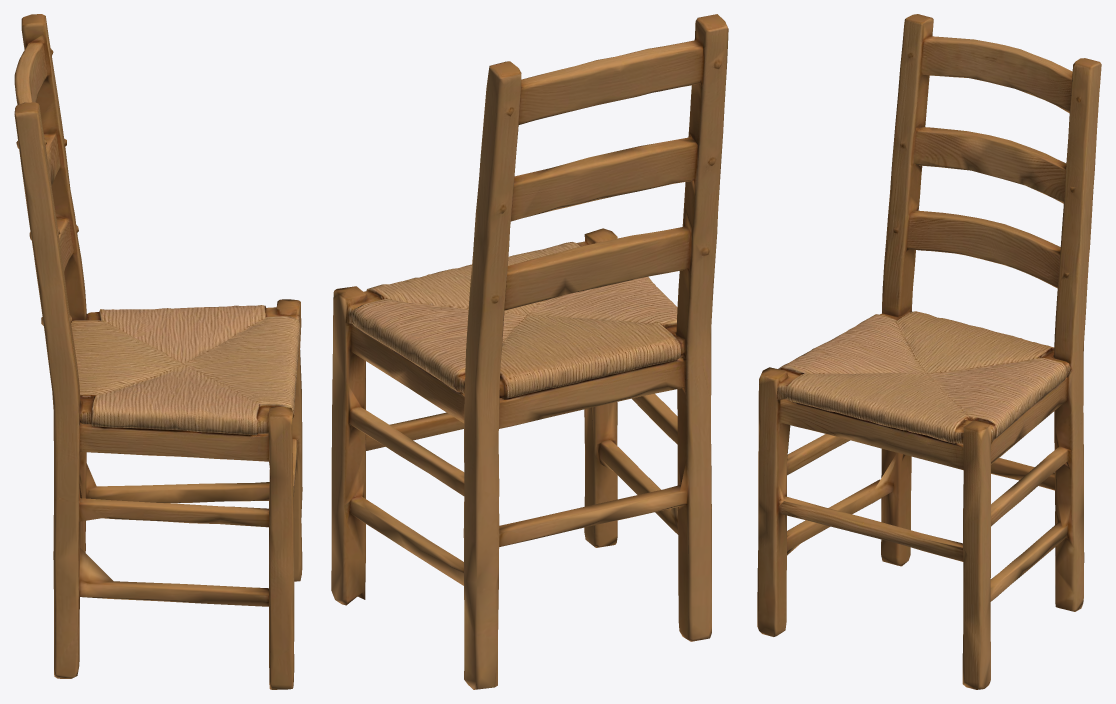
The model's file is k_chair.glb.
The picture shows the model from 3 angles, left to right: view 1: azimuth 30°, elevation 25°; view 2: azimuth 150°, elevation 25°; view 3: azimuth 270°, elevation 25°; orthographic projection. The views are drawn at different scales.
Parts seen in each view (by area): view 1: tripo_node_f6004155-3aec-4b7e-a804-8304440246a0; view 2: tripo_node_f6004155-3aec-4b7e-a804-8304440246a0; view 3: tripo_node_f6004155-3aec-4b7e-a804-8304440246a0.
Boxes of the visible parts, left/top/right/bottom form: tripo_node_f6004155-3aec-4b7e-a804-8304440246a0: left=14, top=14, right=302, bottom=689; tripo_node_f6004155-3aec-4b7e-a804-8304440246a0: left=331, top=14, right=728, bottom=689; tripo_node_f6004155-3aec-4b7e-a804-8304440246a0: left=757, top=14, right=1101, bottom=689.
Bounding box in the file's own units: 0.591 × 1 × 0.5849.
1 material, 1 textured.
